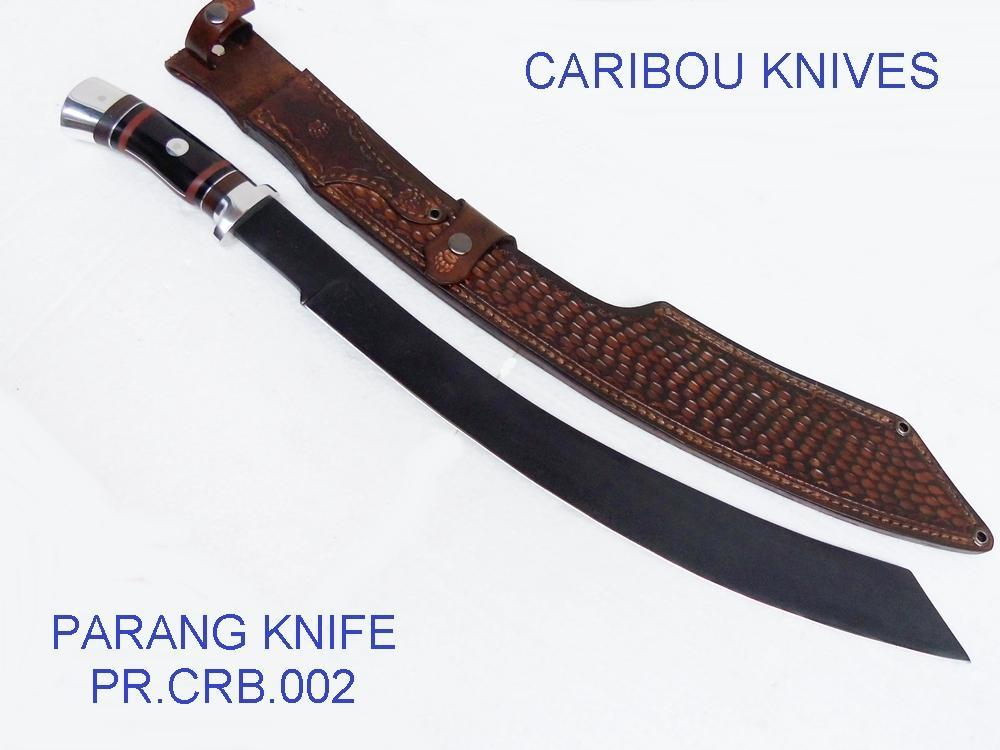facao: (40, 74, 981, 678)
